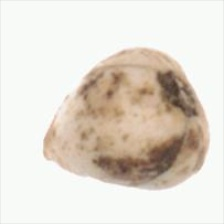L4: (42, 46, 209, 191)
